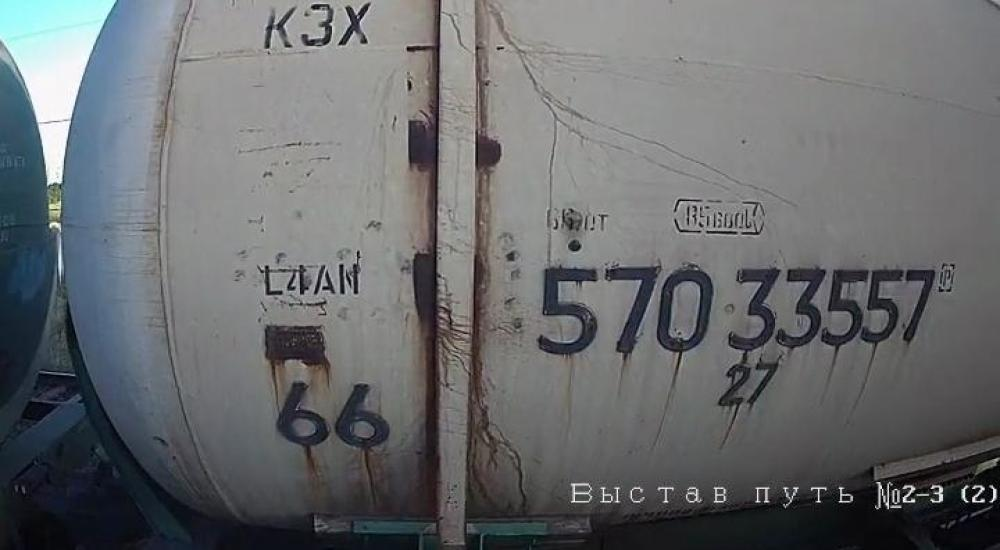Wagon-number: (529, 260, 938, 358)
